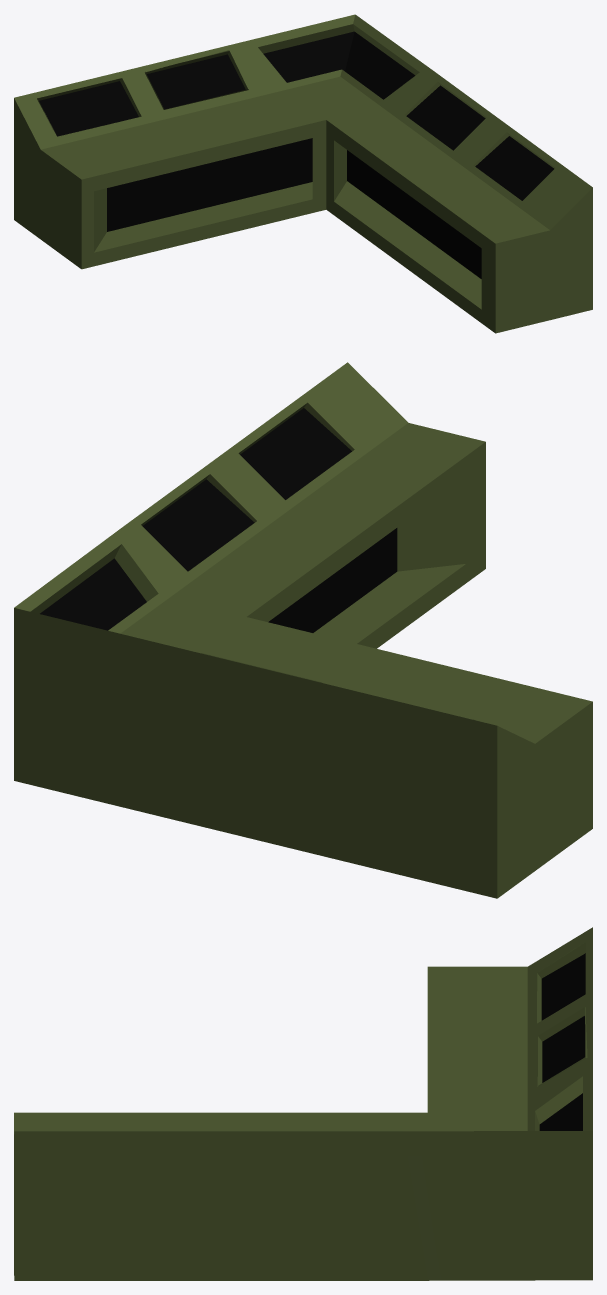
Rendered from bombepult.fbx.
3 renders of one model, top to bottom at view 1: azimuth 30°, elevation 25°; view 2: azimuth 150°, elevation 25°; view 3: azimuth 270°, elevation 25°, orthographic. The views are drawn at different scales.
Parts seen in each view (by area): view 1: Cube; view 2: Cube; view 3: Cube.
Boxes of the visible parts, left/top/right/bottom form: Cube: left=14, top=14, right=592, bottom=333; Cube: left=14, top=362, right=592, bottom=898; Cube: left=14, top=927, right=592, bottom=1280.
Size of the model in its own units: 967 by 330 by 1159.
